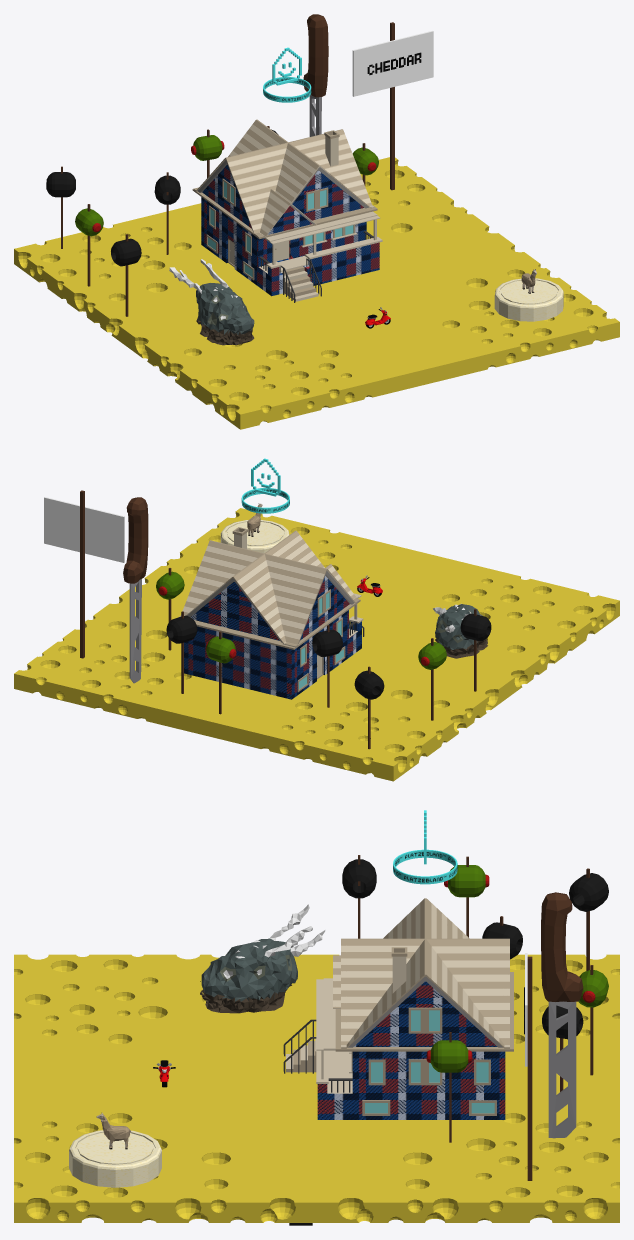
3 renders of one model, top to bottom at view 1: azimuth 30°, elevation 25°; view 2: azimuth 150°, elevation 25°; view 3: azimuth 270°, elevation 25°, orthographic. The views are drawn at different scales.
Visible parts, largest first — view 1: Cube.022, Cube.171, Cube.023, OBJRANDOM_METEORITE, Cylinder.016, Cube.024, TYPE_PREMIUM, Sphere.017, Sphere.018, Sphere.016, Sphere.020, Sphere.022 (+1 smaller); view 2: Cube.022, Cube.171, Cube.023, Cube.024, OBJRANDOM_METEORITE, Cylinder.016, TYPE_PREMIUM, Sphere.021, Sphere.017, Sphere.020, Sphere.022, Sphere.016 (+2 smaller); view 3: Cube.022, Cube.171, OBJRANDOM_METEORITE, Cube.024, Cylinder.016, Cube.023, Sphere.019, Sphere.016, TYPE_PREMIUM, Sphere.017, Sphere.018, Sphere.022 (+2 smaller).
Boxes of the visible parts, x1,y1,x2,y2 form: Cube.022: (14, 157, 619, 429); Cube.171: (192, 119, 382, 302); Cube.023: (352, 22, 433, 190); OBJRANDOM_METEORITE: (169, 259, 254, 345); Cylinder.016: (494, 278, 563, 321); Cube.024: (303, 14, 328, 136); TYPE_PREMIUM: (263, 47, 311, 102); Sphere.017: (111, 234, 141, 316); Sphere.018: (75, 204, 103, 286); Sphere.016: (46, 166, 75, 248); Sphere.020: (154, 172, 180, 254); Sphere.022: (191, 129, 224, 177); Cube.022: (14, 508, 619, 781); Cube.171: (179, 527, 364, 699); Cube.023: (44, 490, 124, 658); Cube.024: (123, 497, 148, 683); OBJRANDOM_METEORITE: (433, 603, 487, 658); Cylinder.016: (220, 520, 289, 553); TYPE_PREMIUM: (241, 458, 289, 513); Sphere.021: (166, 611, 197, 693); Sphere.017: (460, 609, 491, 691); Sphere.020: (312, 625, 342, 707); Sphere.022: (205, 631, 236, 714); Sphere.016: (354, 666, 384, 749); Cube.022: (14, 954, 619, 1222); Cube.171: (283, 898, 513, 1119); OBJRANDOM_METEORITE: (200, 904, 325, 1013); Cube.024: (541, 892, 583, 1138); Cylinder.016: (69, 1130, 161, 1187); Cube.023: (524, 953, 532, 1180); Sphere.019: (426, 1032, 472, 1142); Sphere.016: (569, 868, 608, 970); TYPE_PREMIUM: (393, 810, 457, 884); Sphere.017: (342, 855, 376, 938); Sphere.018: (444, 856, 489, 937); Sphere.022: (578, 965, 608, 1075).
Size of the model in its own units: 3917 by 2232 by 4000.
Materials: 35 (5 with a texture image).
